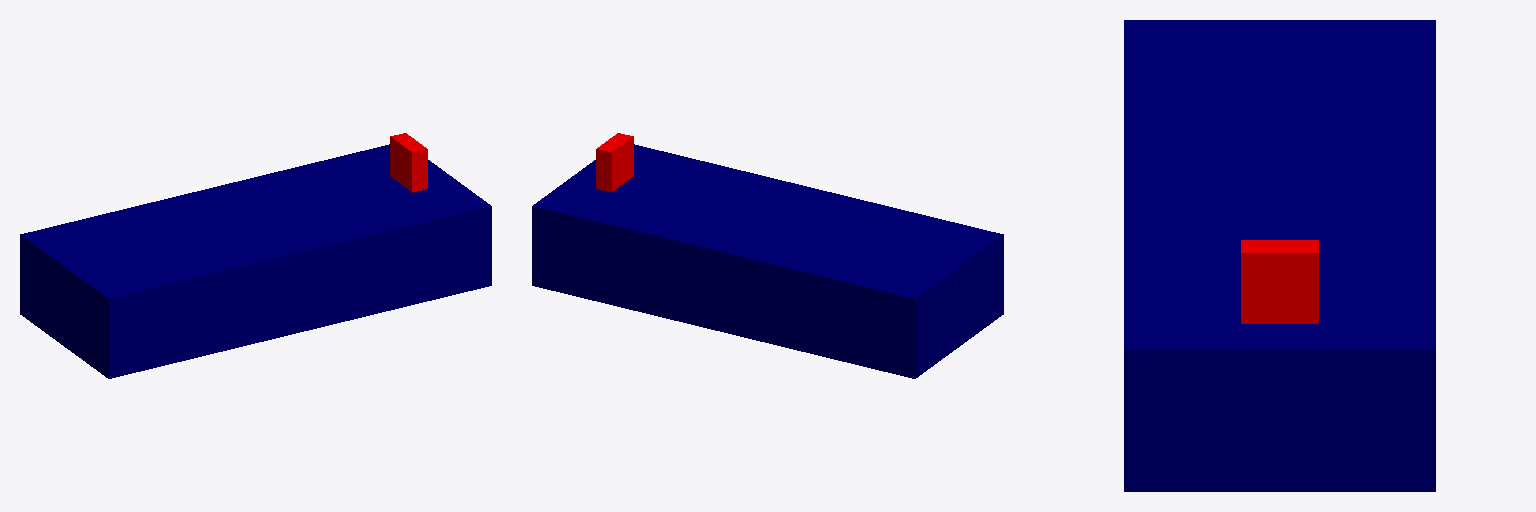
URDF robot description (mycar):
<robot name="mycar">
    <!-- base_footprint -->
    <link name="base_footprint">
        <visual>
            <geometry>
                <sphere radius="0.001" />
            </geometry>
            <origin xyz="0 0 0" rpy="0 0 0" />
        </visual>
    </link>

    <!-- base_link -->
    <link name="base_link">
        <visual>
            <geometry>
                <box size="0.5 0.2 0.1" />
            </geometry>
            <origin xyz="0 0 0" rpy="0 0 0" />
            <material name="blue">
                <color rgba="0.0 0.0 0.5 1" />
            </material>
        </visual>
    </link>

    <!-- cam_link -->
    <link name="cam_link">
        <visual>
            <geometry>
                <box size="0.02 0.05 0.05" />
            </geometry>
            <origin xyz="0 0 0.0" rpy="0 0 0" />
            <material name="red">
                <color rgba="1 0 0 1" />
            </material>
        </visual>
    </link>

    <!-- joint: base_link2base_footprint -->
    <joint name="base_link2base_footprint" type="fixed">
        <parent link="base_footprint" />
        <child link="base_link" />
        <origin xyz="0 0 0.05" />
    </joint>

    <!-- joint: cam_link2base_link -->
    <joint name="cam_link2base_link" type="continuous">
        <parent link="base_link" />
        <child link="cam_link" />

        <!-- translation between 2 links -->
        <origin xyz="0.2 0 0.075" rpy="0 0 0" />
        <axis xyz="0 0 1" />    
    </joint>
</robot>

--- What the picture shows (computed from the rendered views, not written in the file) ---
Views: 3 orthographic renders of the robot side by side, from view 1: azimuth 30°, elevation 25°; view 2: azimuth 150°, elevation 25°; view 3: azimuth 270°, elevation 25°.
Model mycar with 3 links and 2 joints (1 continuous, 1 fixed), rooted at base_footprint, posed all joints at 0.
Links seen in each view (by area): view 1: base_link, cam_link; view 2: base_link, cam_link; view 3: base_link, cam_link.
Boxes of the visible links, left/top/right/bottom form: base_link: left=20, top=144, right=491, bottom=378; cam_link: left=390, top=133, right=427, bottom=192; base_link: left=532, top=144, right=1003, bottom=378; cam_link: left=596, top=133, right=633, bottom=192; base_link: left=1124, top=20, right=1435, bottom=491; cam_link: left=1241, top=240, right=1318, bottom=323.
Size in the robot's own frame: 0.5 by 0.2 by 0.151 metres.
Geometry: primitives only (box / cylinder / sphere), no mesh files.